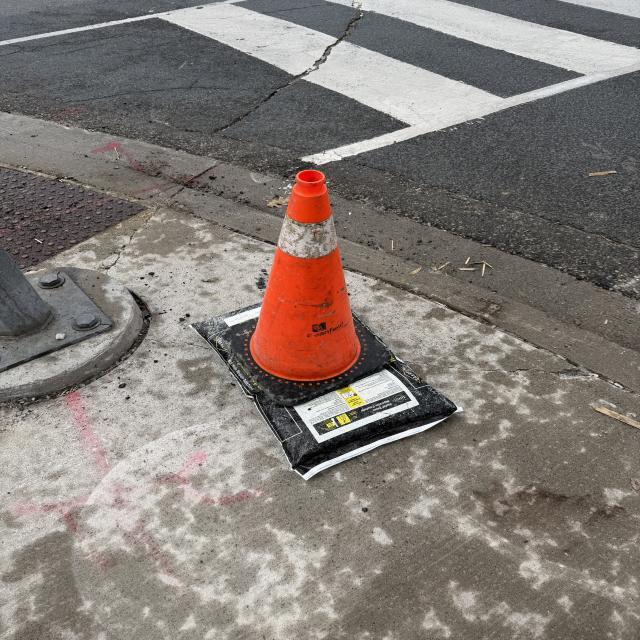Traffic Cone: (228, 169, 395, 402)
